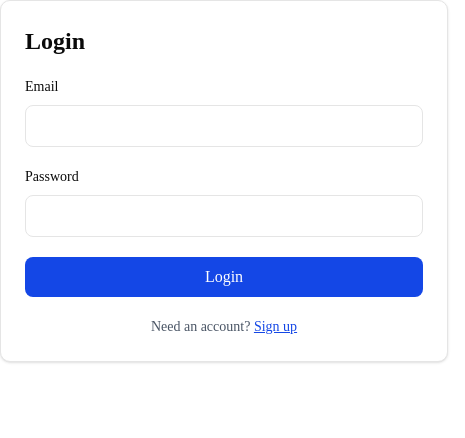
Scenario: auth flow › shows an error for invalid login credentials
This screenshot has width=465, height=438.
In the field with test id "auth-login-email": (224, 126) [25, 105, 423, 147], type "missing@example.com"
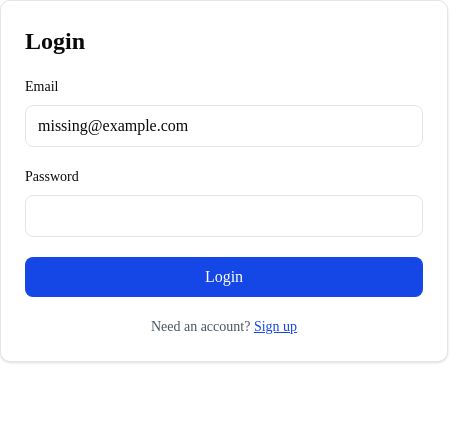
In the password field with test id "auth-login-password": (224, 216) [25, 195, 423, 237], type "wrong"
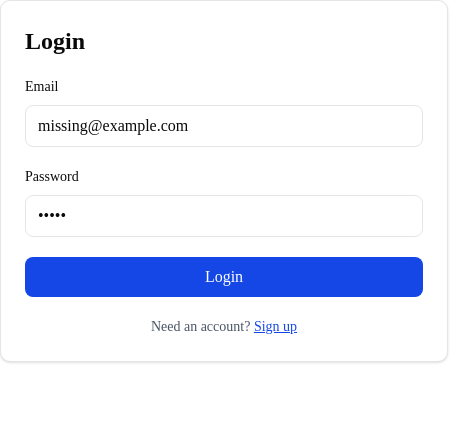
Click the button with test id "auth-login-submit": (224, 277) [25, 257, 423, 297]
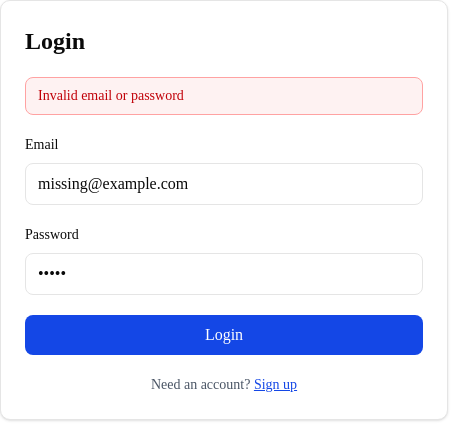
Result: the message reads "Invalid email or password" at [38, 88, 184, 103]
